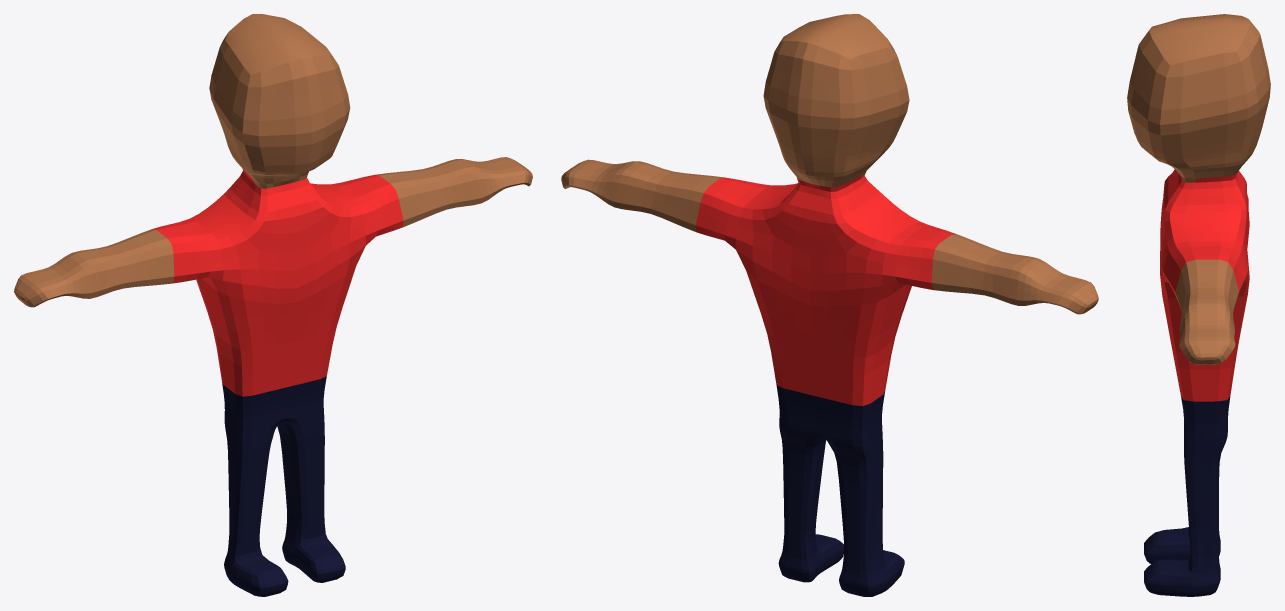
The model's file is Basic.swordless.fbx.
3 views of the same model, side by side, from view 1: azimuth 30°, elevation 25°; view 2: azimuth 150°, elevation 25°; view 3: azimuth 270°, elevation 25° (orthographic). The views are drawn at different scales.
Visible parts, largest first — view 1: Box001, Object, Object001; view 2: Box001, Object, Object001; view 3: Object, Box001, Object001.
Part boxes in pixels (x1,y1,x2,y2): Box001: (152, 168, 403, 396); Object: (14, 14, 532, 307); Object001: (222, 376, 345, 596); Box001: (695, 175, 955, 406); Object: (561, 14, 1098, 314); Object001: (776, 385, 904, 596); Object: (1127, 14, 1270, 364); Box001: (1160, 169, 1249, 401); Object001: (1144, 396, 1230, 596).
Bounding box in the file's own units: 154 × 157 × 36.79.
